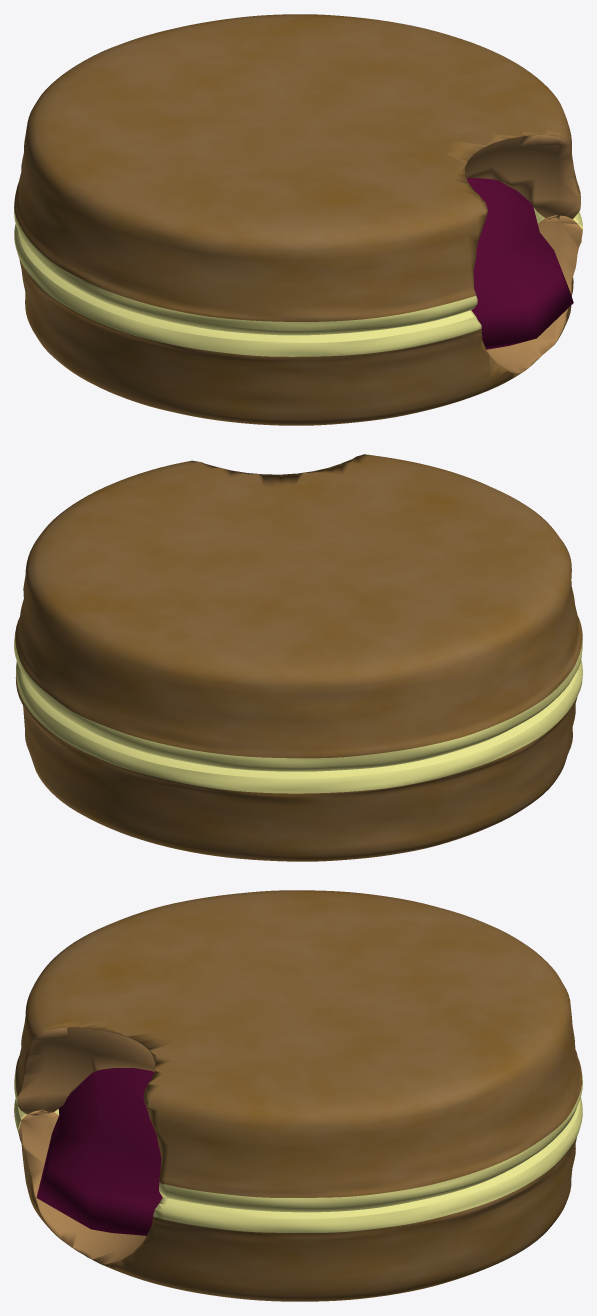
File: red.glb
3 views of the same model, one above another, from view 1: azimuth 30°, elevation 25°; view 2: azimuth 150°, elevation 25°; view 3: azimuth 270°, elevation 25° (orthographic).
Parts seen in each view (by area): view 1: Cylinder, Cylinder.002, Mball.002; view 2: Cylinder, Cylinder.002; view 3: Cylinder, Cylinder.002, Mball.002.
Part boxes in pixels (x1,y1,x2,y2): Cylinder: [14, 14, 580, 342]; Cylinder.002: [14, 212, 582, 425]; Mball.002: [466, 178, 573, 349]; Cylinder: [14, 454, 582, 778]; Cylinder.002: [15, 660, 582, 861]; Cylinder: [14, 890, 582, 1218]; Cylinder.002: [14, 1097, 582, 1301]; Mball.002: [36, 1068, 162, 1235].
Size of the model in its own units: 2.07 by 0.8121 by 2.08.
4 materials, 2 textured.
